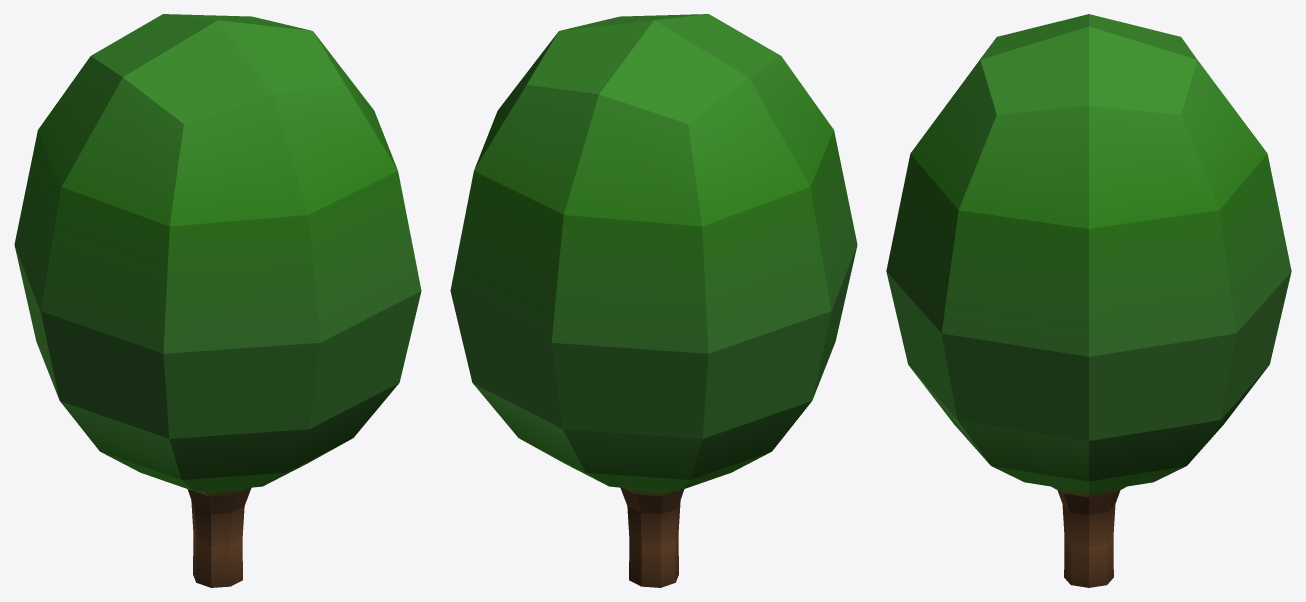
The model's file is Bush.fbx.
3 renders of one model, left to right at view 1: azimuth 30°, elevation 25°; view 2: azimuth 150°, elevation 25°; view 3: azimuth 270°, elevation 25°, orthographic.
Visible parts, largest first — view 1: Bush; view 2: Bush; view 3: Bush.
Boxes of the visible parts, bbox=[...] form: Bush: bbox=[14, 14, 421, 587]; Bush: bbox=[450, 14, 857, 587]; Bush: bbox=[886, 14, 1291, 587].
Bounding box in the file's own units: 128 × 192 × 128.
